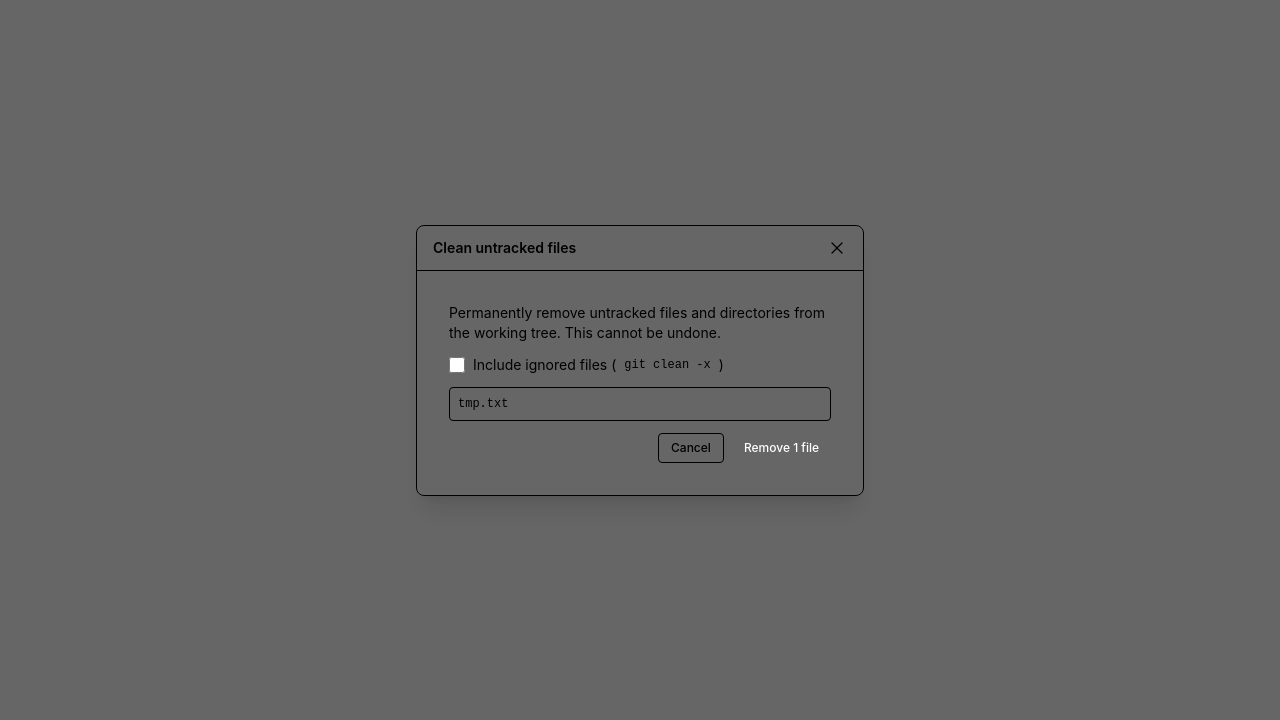
Scenario: CleanUntrackedModal › reloads preview when include ignored is toggled
Expected: the list item "tmp.txt" is shown, [458, 396, 508, 410]
Step 1. Click the checkbox → (457, 364), box [449, 356, 465, 372]
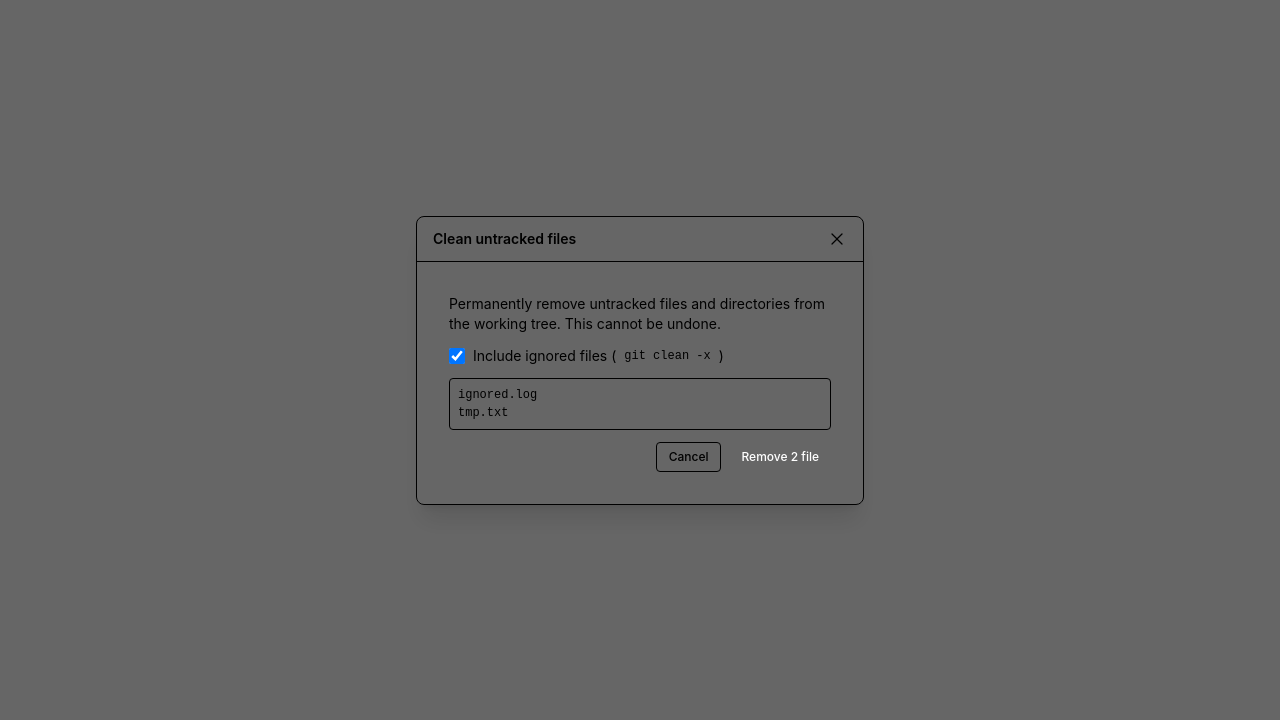
Now the list item "ignored.log" is shown, box [458, 388, 537, 402]
